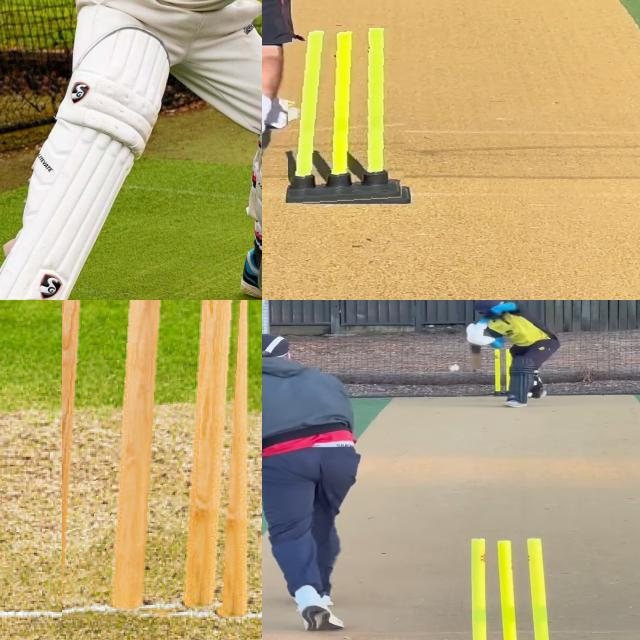Cricket ball: (446, 363, 464, 373)
Stumps: (62, 300, 256, 620), (288, 28, 412, 205), (453, 536, 570, 640)
